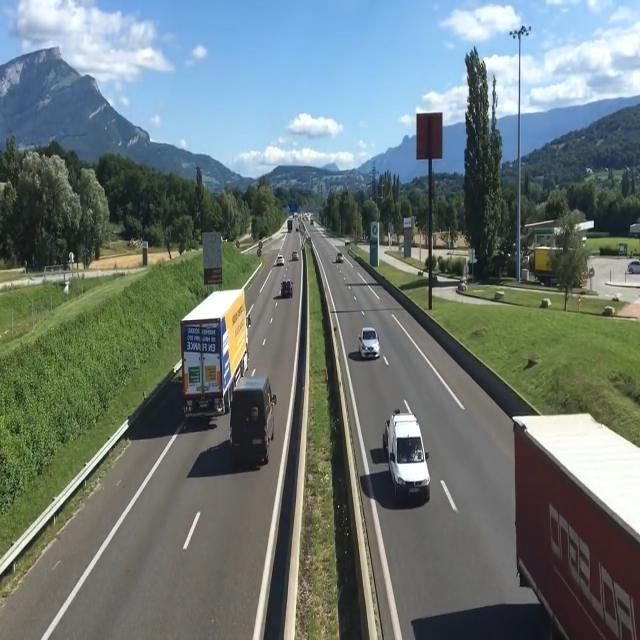Car: (358, 327, 382, 360), (280, 279, 294, 299), (627, 259, 640, 275), (291, 250, 299, 261), (335, 253, 344, 262), (276, 255, 284, 265)
Truck: (507, 410, 640, 640), (178, 287, 252, 418), (382, 413, 432, 498), (286, 219, 294, 232)
Van: (230, 375, 278, 465)
